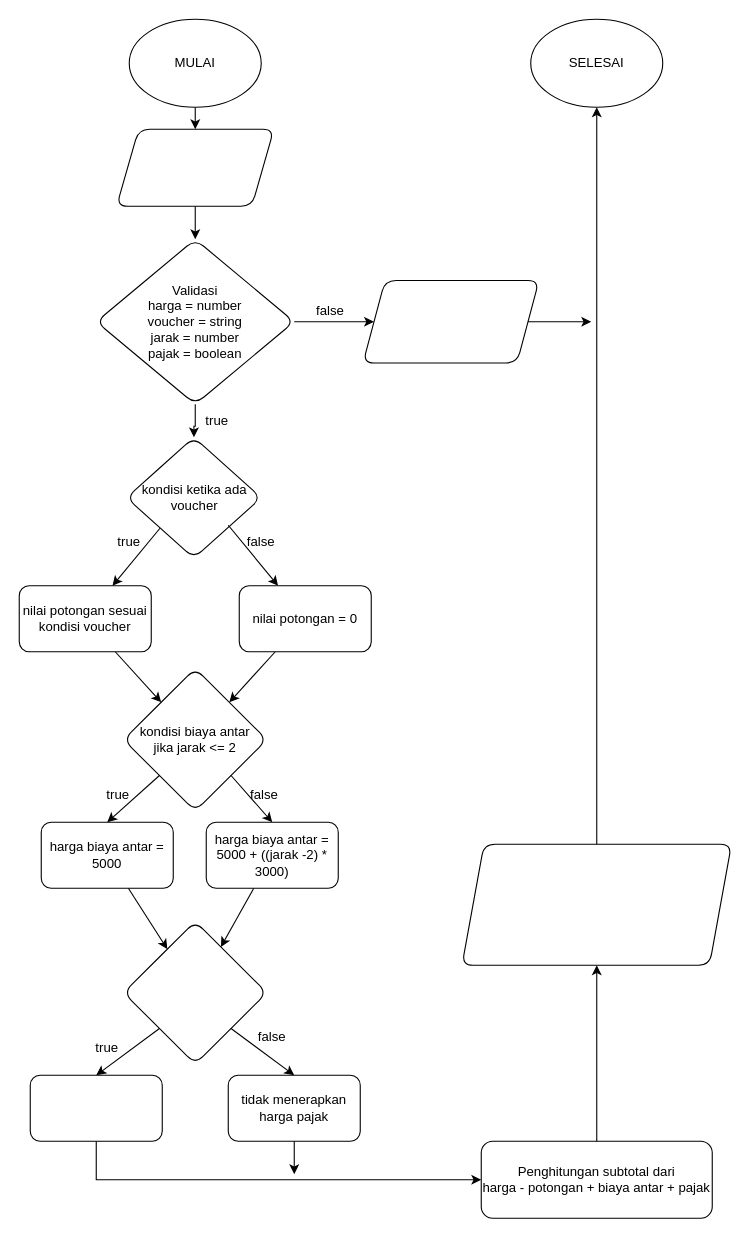
The diagram is 751 pixels wide and 1238 high, and some of its shapes have lost their labels. The centre of each missing label's shape, as x and y in pixels:
Input (harga, voucher, jarak, pajak): point (195, 167)
kondisi ketika ada pajak: point (195, 992)
menerapkan harga pajak: point (95, 1107)
print hasil validasi: point (450, 321)
Print nilai harga, potongan, biaya antar, pajak, subtotal: point (596, 904)
